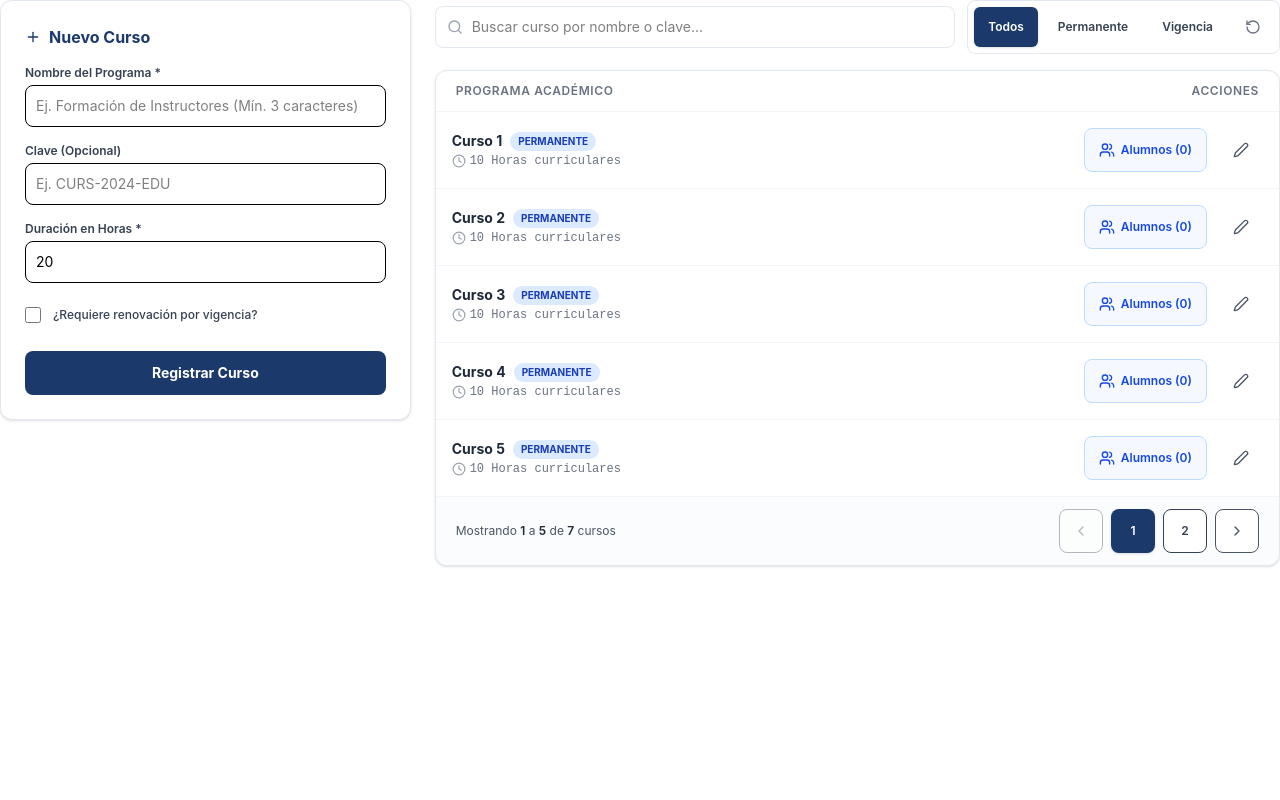
Test case: ModuloCursos › paginación › al cambiar de página muestra los siguientes registros
Click the button named "ir a la página 2 de cursos" at (1185, 531), box [1163,509,1207,553]
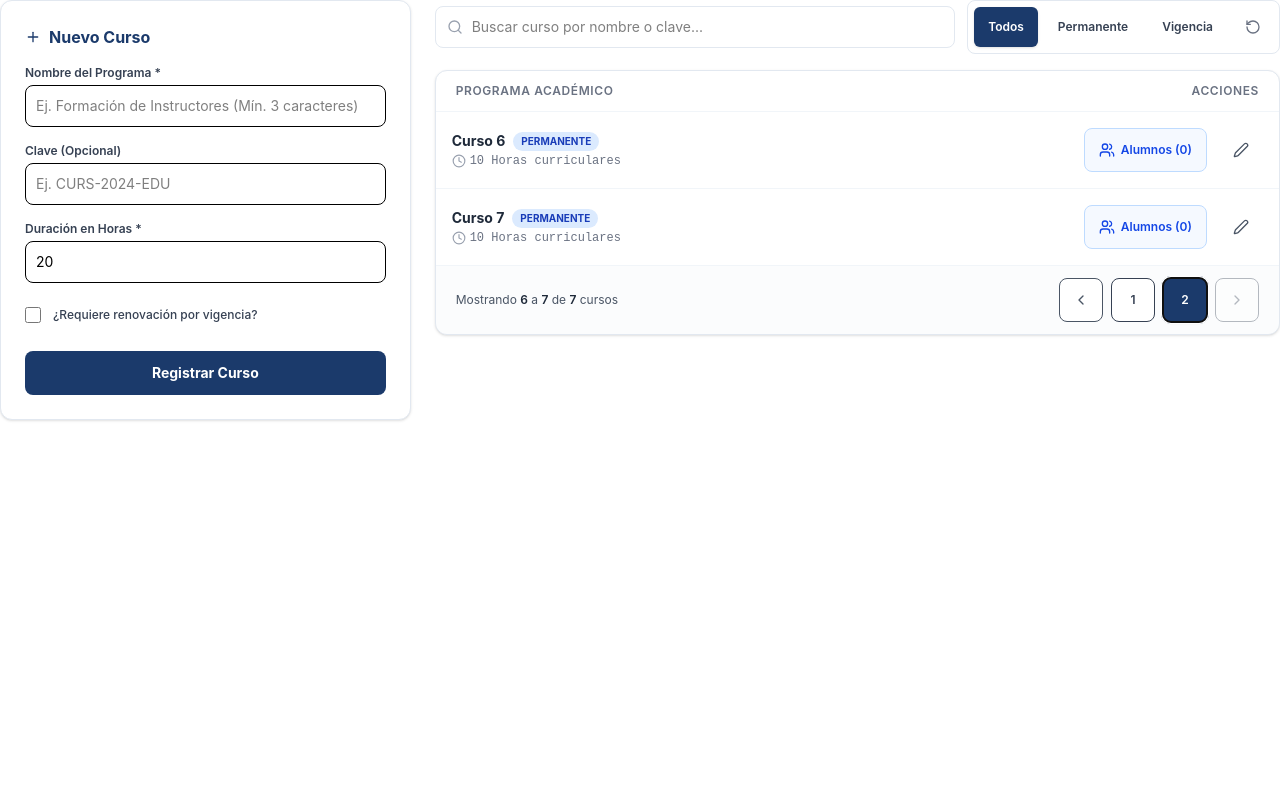
Result: the text "Curso 6" is shown at [452,131,505,151]
Result: the text "Curso 7" is shown at [452,208,504,228]
Result: the text "Curso 1" is gone
